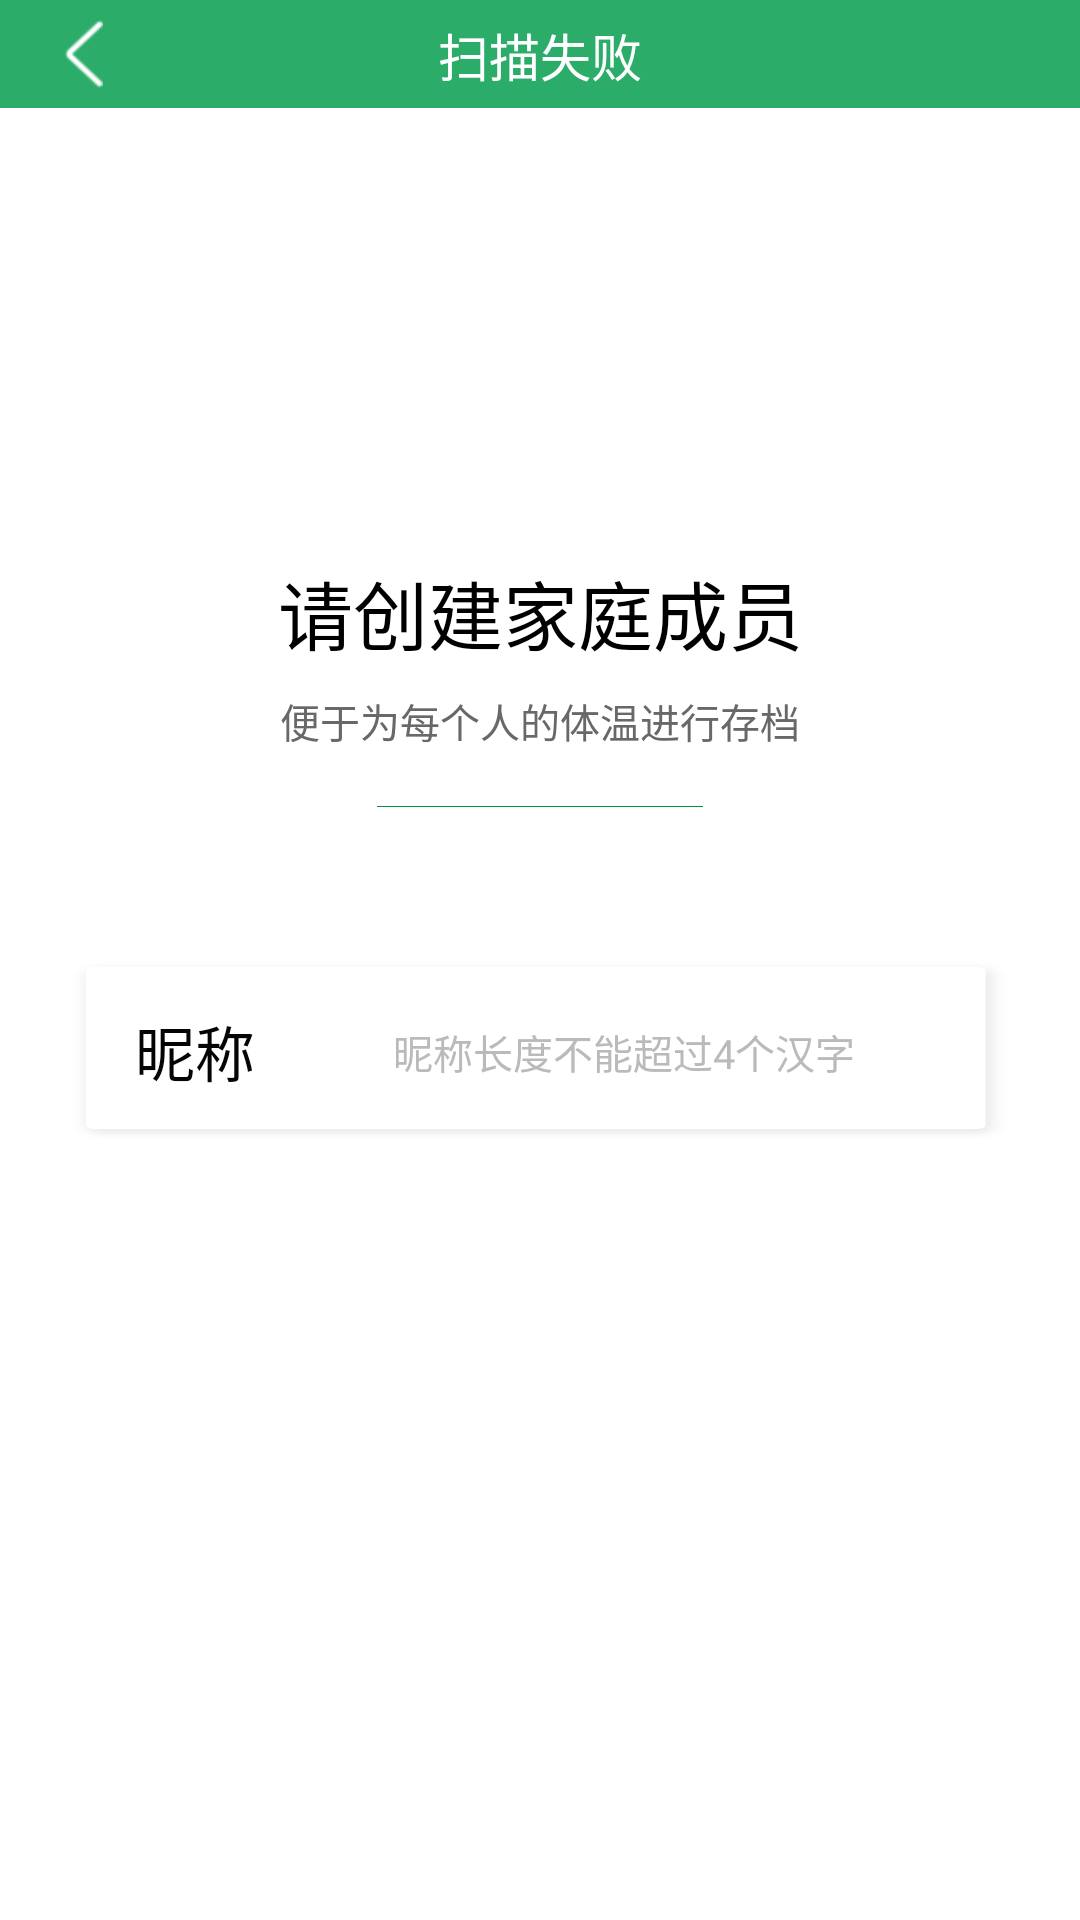

Named icons in this screenshot (1080*1920) and their bounding boxes, (x1,y1,x2,y2):
back: (65,20,103,88)
